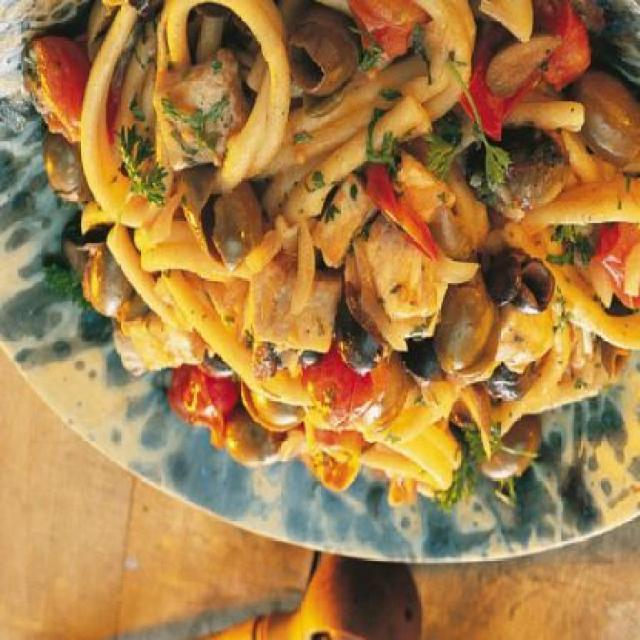Pasta: (12, 5, 638, 522)
